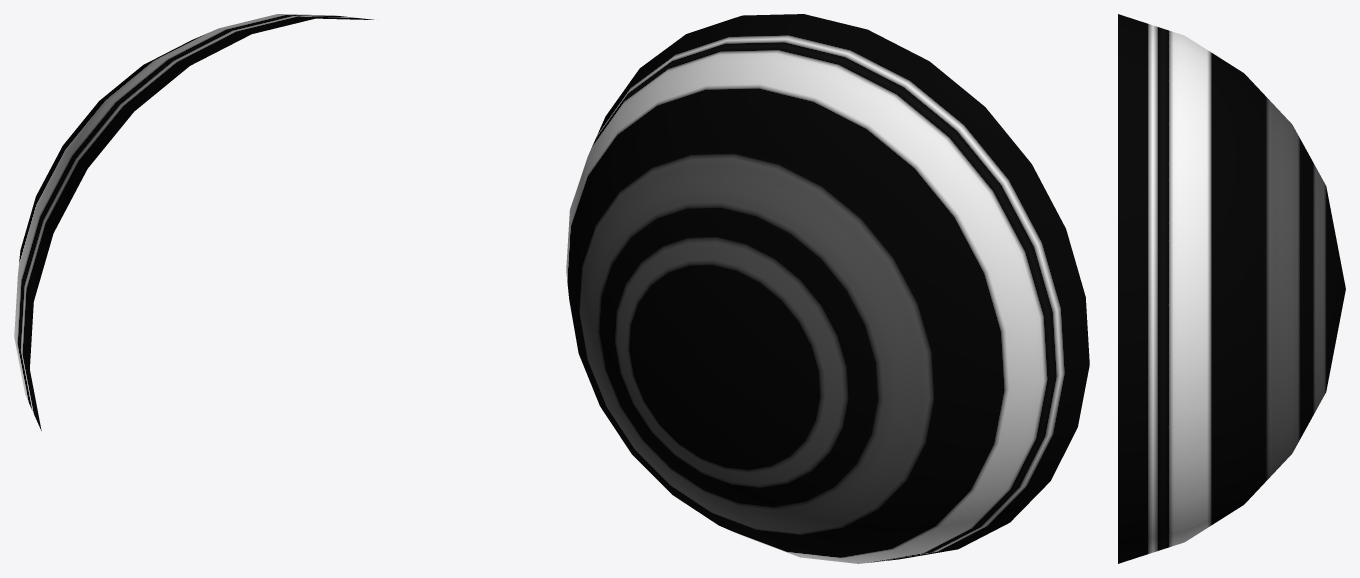
File: magnet_a.glb
3 renders of one model, left to right at view 1: azimuth 30°, elevation 25°; view 2: azimuth 150°, elevation 25°; view 3: azimuth 270°, elevation 25°, orthographic. The views are drawn at different scales.
Visible parts, largest first — view 1: FX_Props_Item_Magnet_A_01; view 2: FX_Props_Item_Magnet_A_01; view 3: FX_Props_Item_Magnet_A_01.
Boxes of the visible parts, <box> form: FX_Props_Item_Magnet_A_01: <box>14,14,373,430</box>; FX_Props_Item_Magnet_A_01: <box>566,14,1089,563</box>; FX_Props_Item_Magnet_A_01: <box>1118,14,1345,563</box>.
Size of the model in its own units: 4.26 by 4.25 by 1.76.
1 material, 1 textured.
